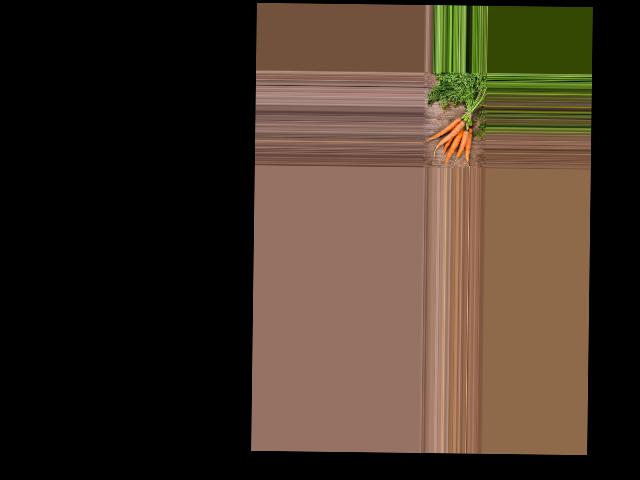carrot: (454, 126, 473, 159)
